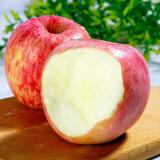apple: (40, 38, 150, 143), (3, 14, 92, 110)
